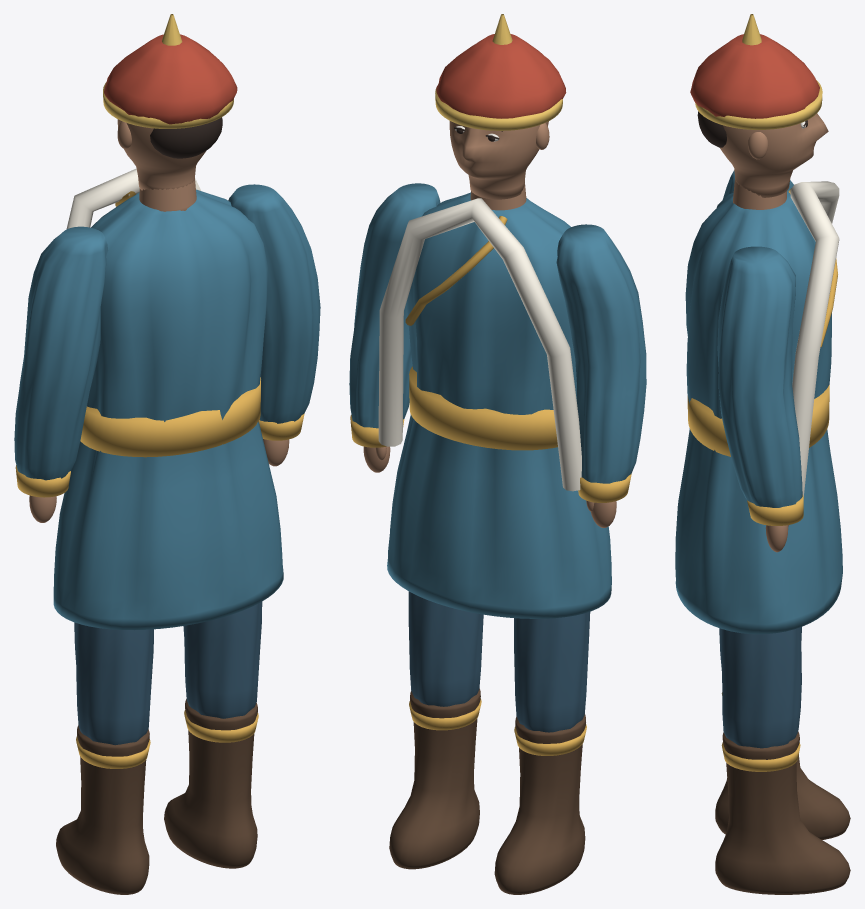
The model's file is Envoy.fbx.
The picture shows the model from 3 angles, left to right: view 1: azimuth 30°, elevation 25°; view 2: azimuth 150°, elevation 25°; view 3: azimuth 270°, elevation 25°; orthographic projection. The views are drawn at different scales.
Parts seen in each view (by area): view 1: Envoy; view 2: Envoy; view 3: Envoy.
Part boxes in pixels (<box>): Envoy: <box>14,14,320,894</box>; Envoy: <box>349,14,646,894</box>; Envoy: <box>675,14,850,894</box>.
Bounding box in the file's own units: 64.44 × 34.24 × 181.
